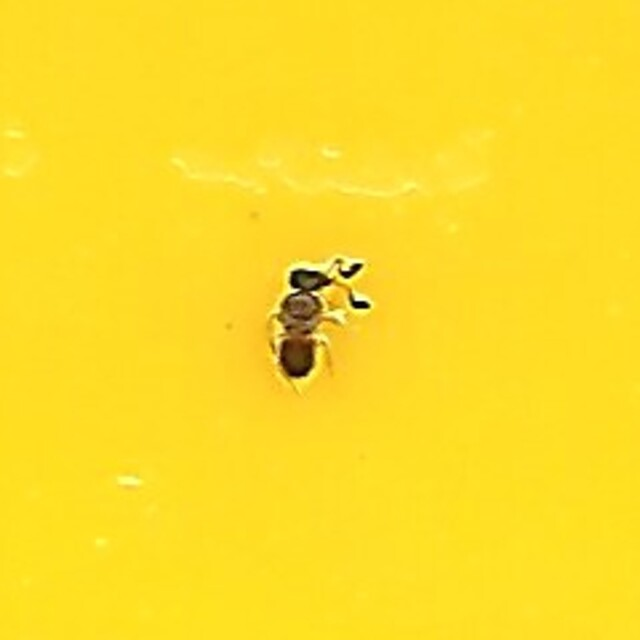Hymenoptera: (267, 251, 373, 389)
